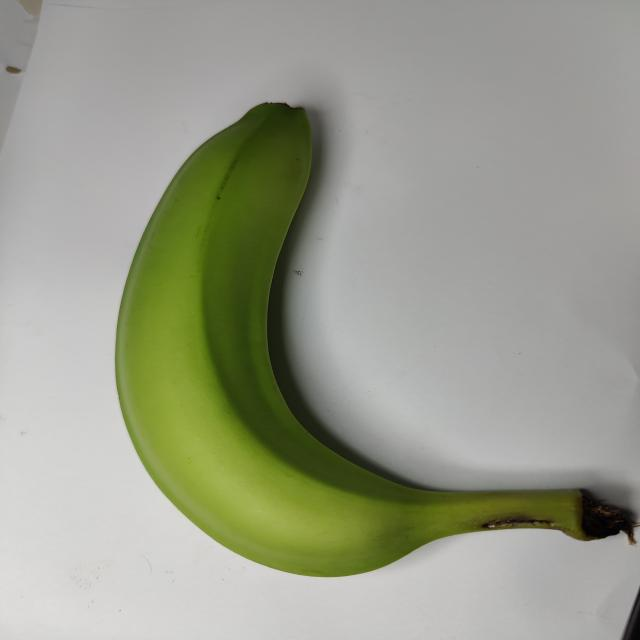raw: (74, 90, 640, 588)
